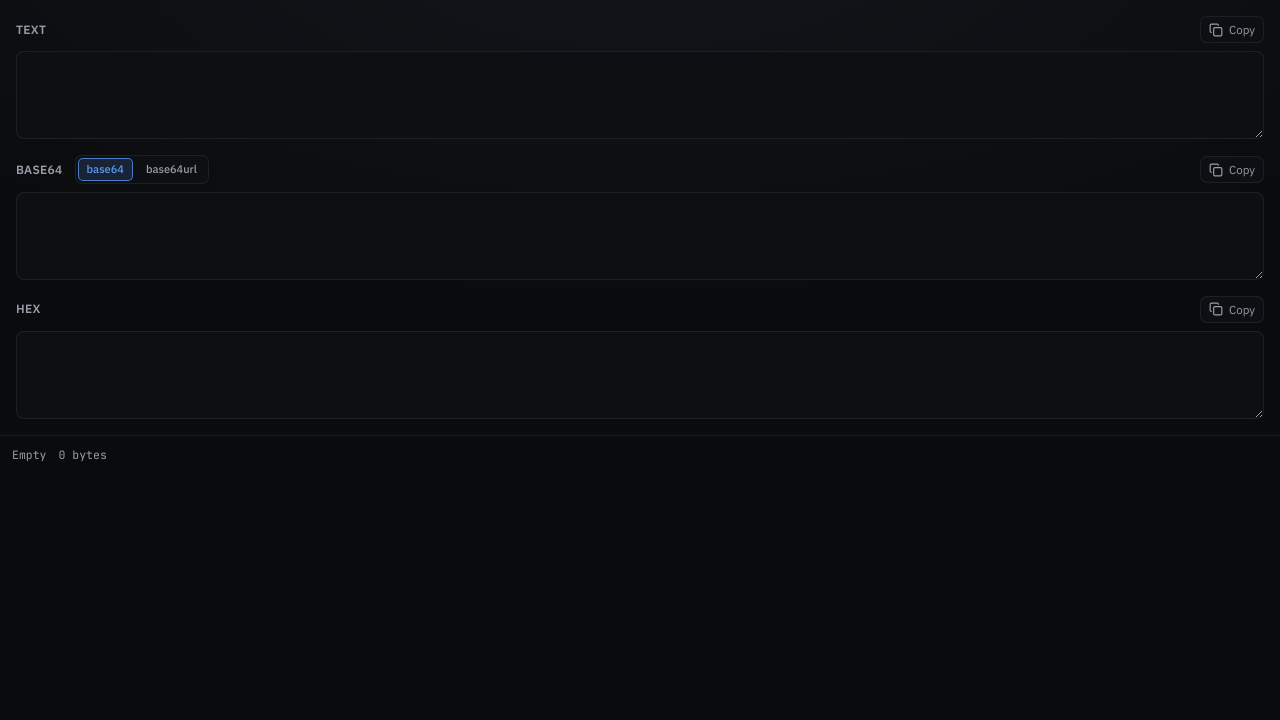
Test: Base64Tool › invalid hex shows a non-opacity error cue (aria-invalid + visible text)
In the text box labelled "Hex": coordinates (640, 375) [16,331,1264,419], type "6"
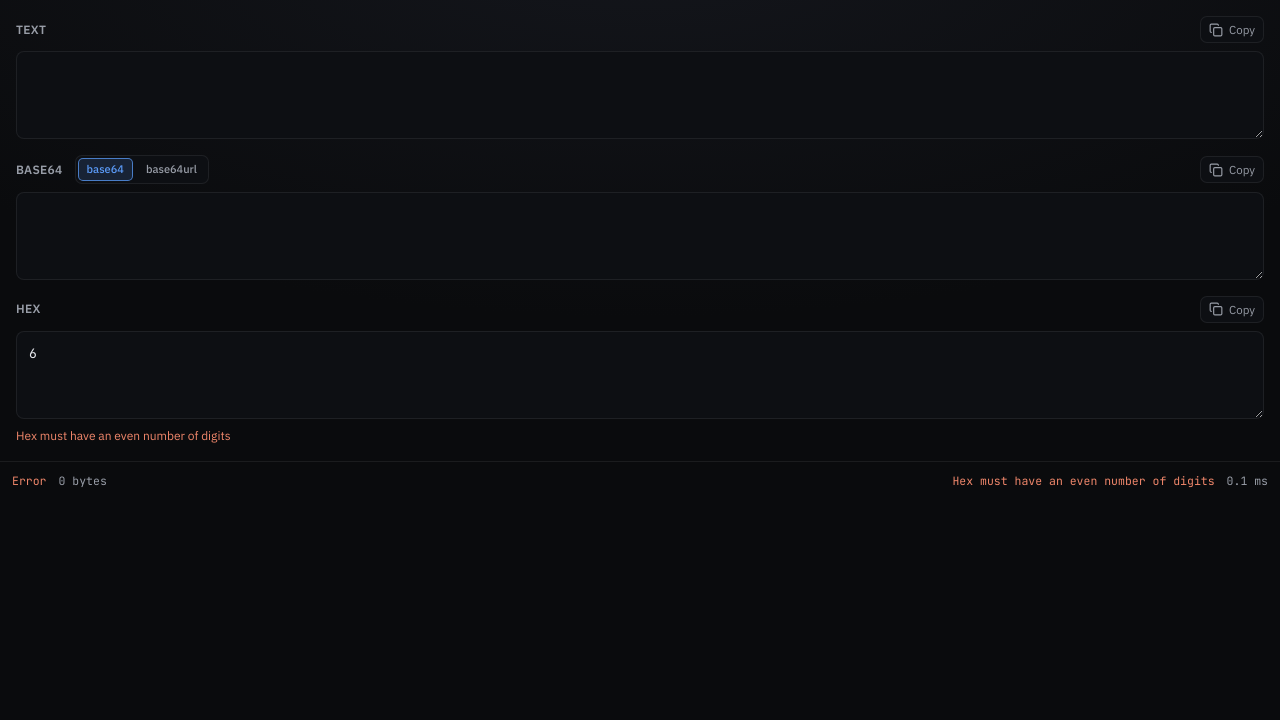
Check: the text "Hex must have an even number of digits" is shown, box [16,428,230,443]
